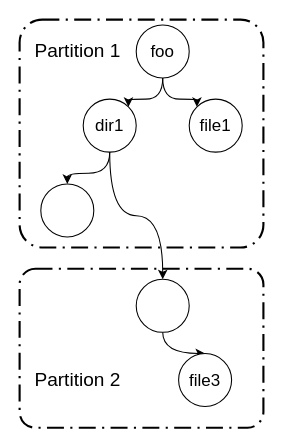
Image size: 282x446. Some labels were removed from this diagram. Each missing label, with the box of its shape:
dir2: (135, 278, 189, 332)
file2: (40, 183, 94, 237)
